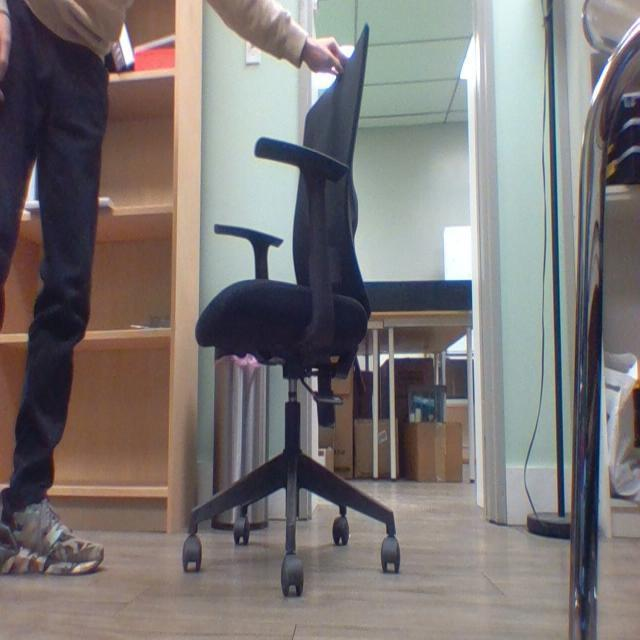chair: (168, 11, 411, 629)
